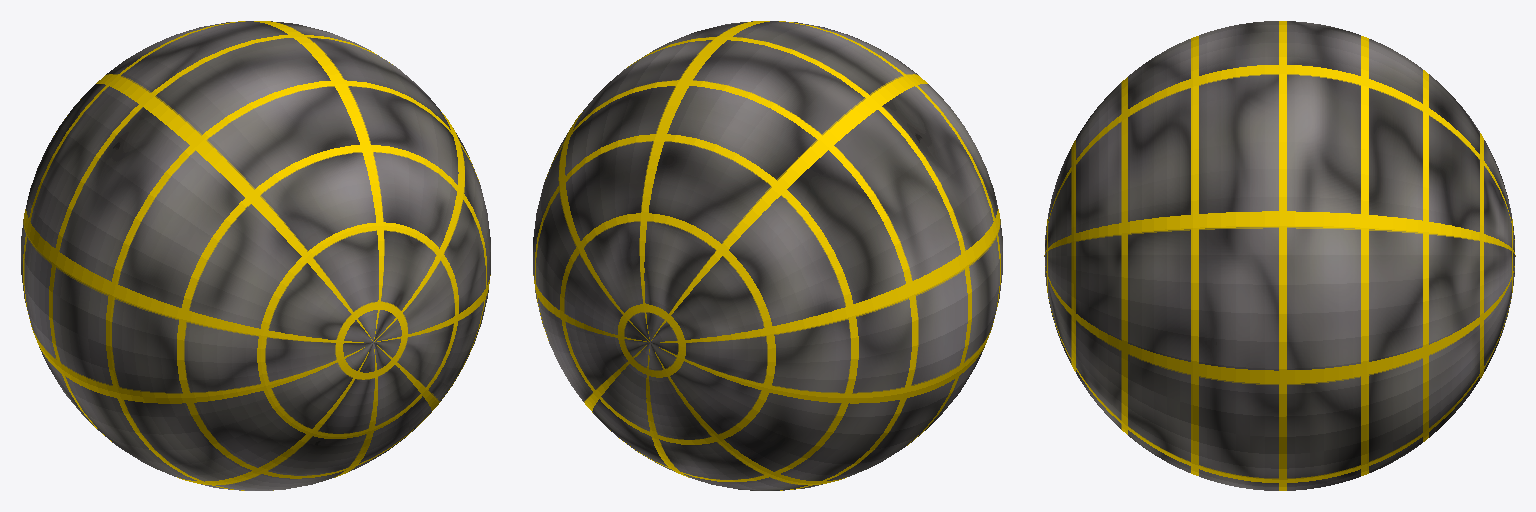
The picture shows the model from 3 angles: view 1: azimuth 30°, elevation 25°; view 2: azimuth 150°, elevation 25°; view 3: azimuth 270°, elevation 25°; orthographic projection.
Visible parts, largest first — view 1: Sphere; view 2: Sphere; view 3: Sphere.
Part boxes in pixels (x1,y1,x2,y2): Sphere: (21, 21, 490, 490); Sphere: (533, 21, 1002, 490); Sphere: (1044, 21, 1515, 490).
Bounding box in the file's own units: 2 × 2 × 2.
1 materials, 1 textured.